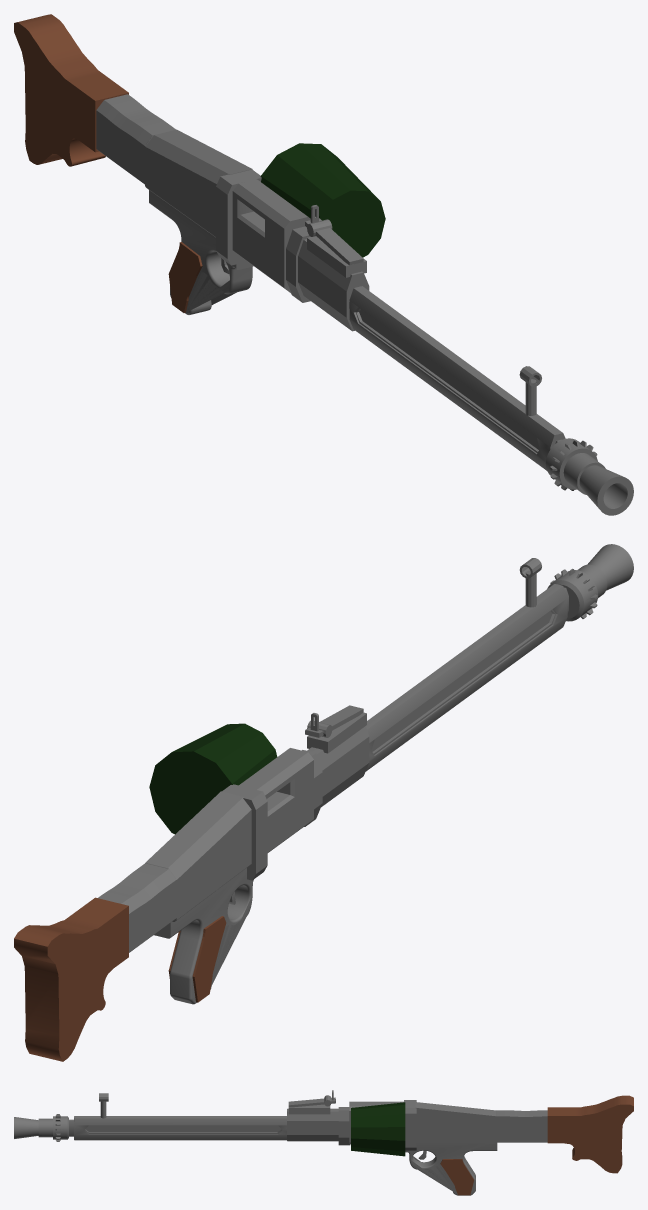
Rendered from Coronator.fbx.
The picture shows the model from 3 angles, top to bottom: view 1: azimuth 30°, elevation 25°; view 2: azimuth 150°, elevation 25°; view 3: azimuth 270°, elevation 25°; orthographic projection. The views are drawn at different scales.
Visible parts, largest first — view 1: Cube.001, Cube.009, Cube.002, Cylinder.003, Cube.006, Cylinder, Cube.003, Cube.007, Cube.004, Cube.016, Cube.008, Cube.013 (+1 smaller); view 2: Cube.001, Cube.002, Cube.009, Cylinder.003, Cube.003, Cube.006, Cylinder, Cube.007, Cube.004, Cube.016, Cube.014, Cube.013; view 3: Cube.009, Cube.002, Cube.001, Cylinder.003, Cube.003, Cube.007, Cylinder, Cube.016, Cube.004, Cube.008, Cube.014, Cube.006 (+1 smaller).
Boxes of the visible parts, x1=… form: Cube.001: x1=14, y1=14, x2=128, y2=166; Cube.009: x1=349, y1=286, x2=565, y2=470; Cube.002: x1=96, y1=94, x2=252, y2=237; Cylinder.003: x1=260, y1=143, x2=385, y2=257; Cube.006: x1=232, y1=179, x2=310, y2=292; Cylinder: x1=545, y1=438, x2=633, y2=515; Cube.003: x1=149, y1=190, x2=253, y2=314; Cube.007: x1=298, y1=239, x2=369, y2=331; Cube.004: x1=216, y1=169, x2=261, y2=265; Cube.016: x1=168, y1=242, x2=202, y2=312; Cube.008: x1=286, y1=226, x2=310, y2=302; Cube.013: x1=305, y1=205, x2=363, y2=265; Cube.001: x1=14, y1=897, x2=128, y2=1061; Cube.002: x1=98, y1=791, x2=251, y2=952; Cube.009: x1=366, y1=584, x2=567, y2=771; Cylinder.003: x1=149, y1=723, x2=277, y2=834; Cube.003: x1=154, y1=868, x2=253, y2=1004; Cube.006: x1=239, y1=748, x2=313, y2=852; Cylinder: x1=547, y1=544, x2=633, y2=621; Cube.007: x1=307, y1=726, x2=369, y2=807; Cube.004: x1=222, y1=784, x2=267, y2=880; Cube.016: x1=168, y1=916, x2=226, y2=1002; Cube.014: x1=307, y1=712, x2=366, y2=753; Cube.013: x1=305, y1=705, x2=363, y2=737; Cube.009: x1=74, y1=1116, x2=287, y2=1140; Cube.002: x1=415, y1=1102, x2=547, y2=1143; Cube.001: x1=547, y1=1095, x2=633, y2=1173; Cylinder.003: x1=351, y1=1102, x2=405, y2=1156; Cube.003: x1=405, y1=1142, x2=497, y2=1195; Cube.007: x1=287, y1=1108, x2=338, y2=1141; Cylinder: x1=14, y1=1114, x2=68, y2=1141; Cube.016: x1=440, y1=1159, x2=473, y2=1195; Cube.004: x1=404, y1=1100, x2=416, y2=1150; Cube.008: x1=338, y1=1107, x2=350, y2=1145; Cube.014: x1=288, y1=1104, x2=330, y2=1114; Cube.006: x1=349, y1=1101, x2=403, y2=1144.
Bounding box in the file's own units: 53.03 × 81.55 × 447.
